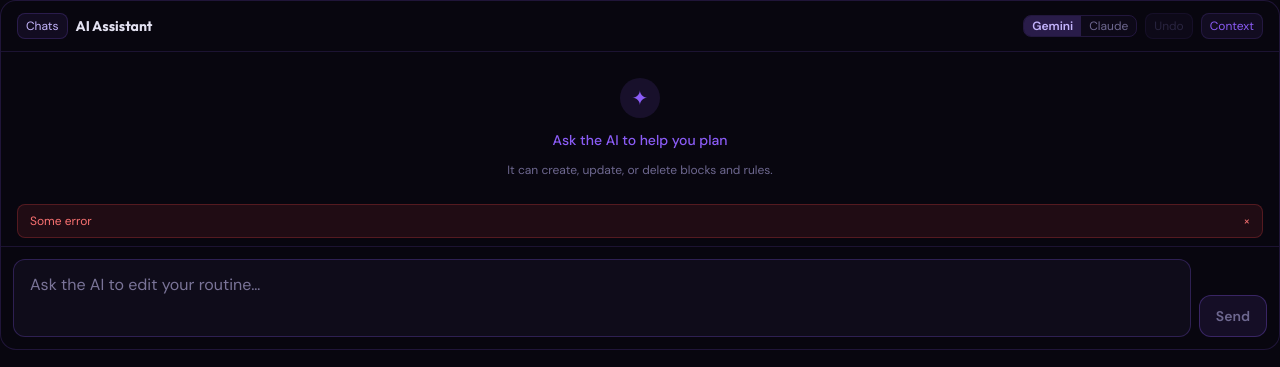
Scenario: ChatPanel › clears error when dismiss button is clicked
The image size is (1280, 367).
Click the button named "dismiss error". click: (1247, 221)
box: [1243,213,1250,229]
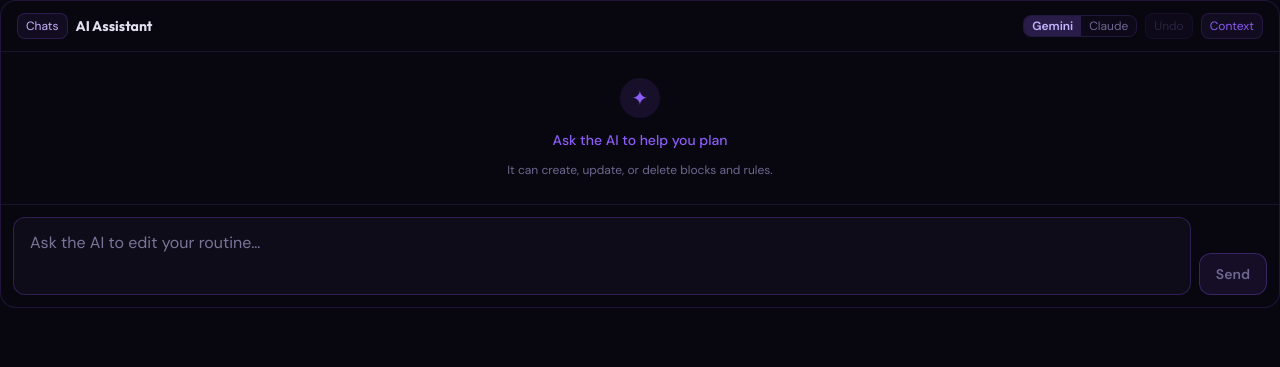
Now the message "Some error ×" is gone
